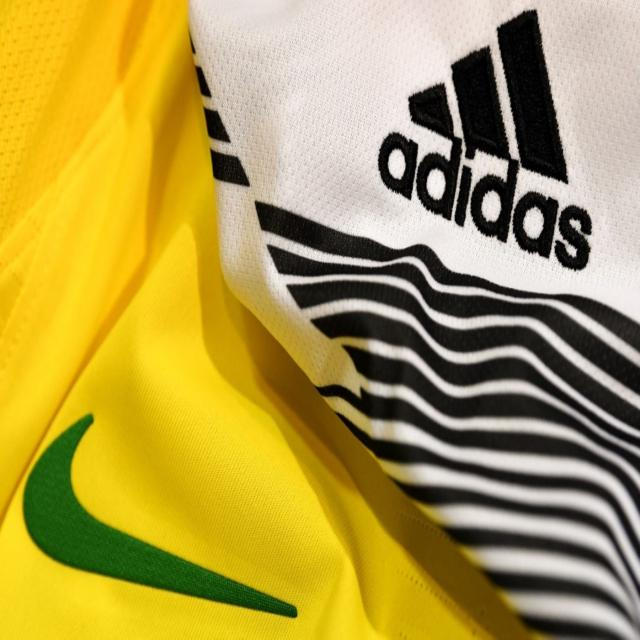nike: (19, 411, 304, 628)
